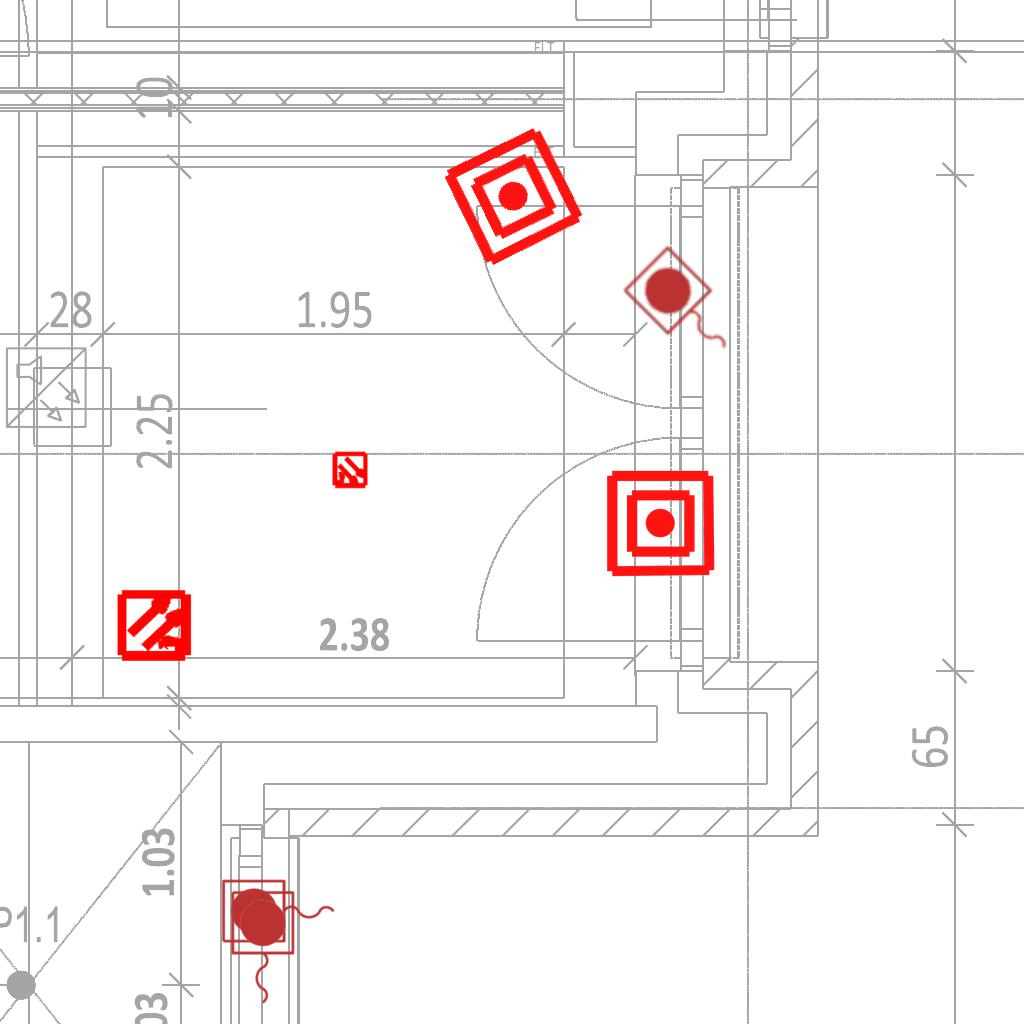NAM-Nichtautomatischer_Melder: (437, 120, 590, 273), (604, 467, 717, 580)
OT_Multisensormelder_(Kombination_RMO_WMD): (100, 569, 213, 682), (322, 443, 378, 499)
Zugtaster: (616, 240, 754, 378), (218, 876, 340, 948), (226, 887, 298, 1009)
